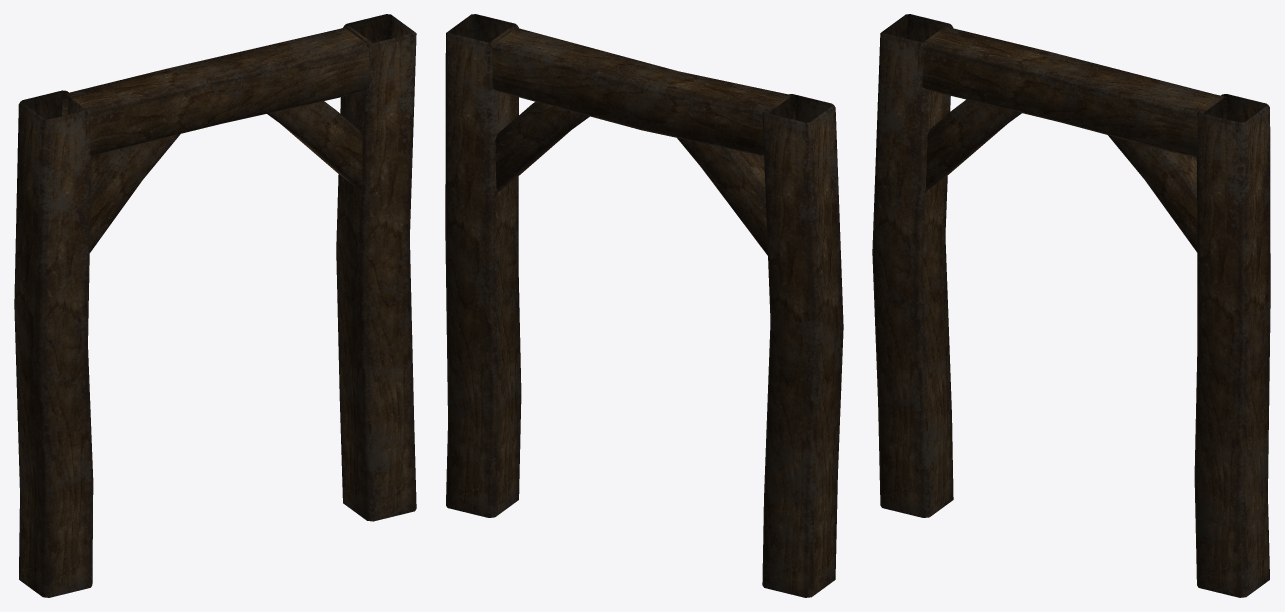
The model's file is DF_C_Wood_Support.fbx.
3 renders of one model, left to right at view 1: azimuth 30°, elevation 25°; view 2: azimuth 150°, elevation 25°; view 3: azimuth 330°, elevation 25°, orthographic.
Parts seen in each view (by area): view 1: DF_C_Wood_Support; view 2: DF_C_Wood_Support; view 3: DF_C_Wood_Support.
Boxes of the visible parts, box(x1,y1,x2,y2) form: DF_C_Wood_Support: box(14, 14, 416, 597); DF_C_Wood_Support: box(445, 14, 843, 597); DF_C_Wood_Support: box(872, 14, 1270, 597).
Bounding box in the file's own units: 2092 × 2530 × 310.
